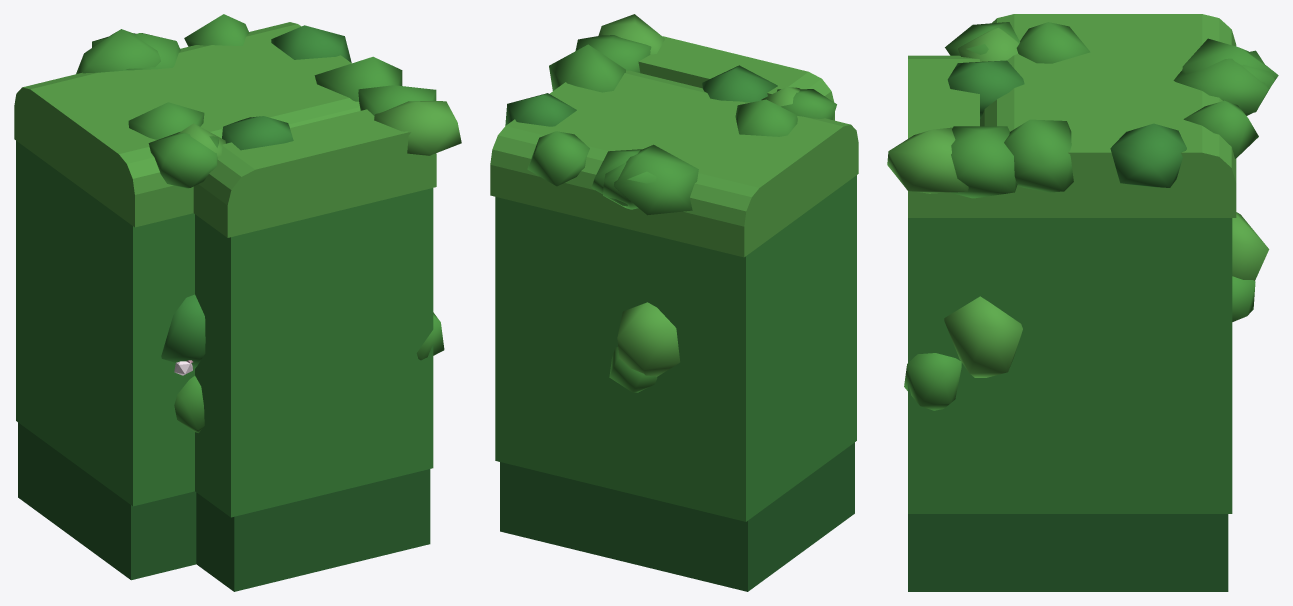
Rendered from hedge_corner.glb.
The picture shows the model from 3 angles, left to right: view 1: azimuth 30°, elevation 25°; view 2: azimuth 150°, elevation 25°; view 3: azimuth 270°, elevation 25°; orthographic projection. The views are drawn at different scales.
Parts seen in each view (by area): view 1: hedge_corner; view 2: hedge_corner; view 3: hedge_corner.
Boxes of the visible parts, <box> form: hedge_corner: <box>14,14,461,591</box>; hedge_corner: <box>490,14,858,591</box>; hedge_corner: <box>887,14,1278,591</box>.
Size of the model in its own units: 0.9147 by 1.3 by 0.978.
